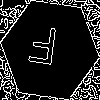F: (25, 25, 59, 74)
